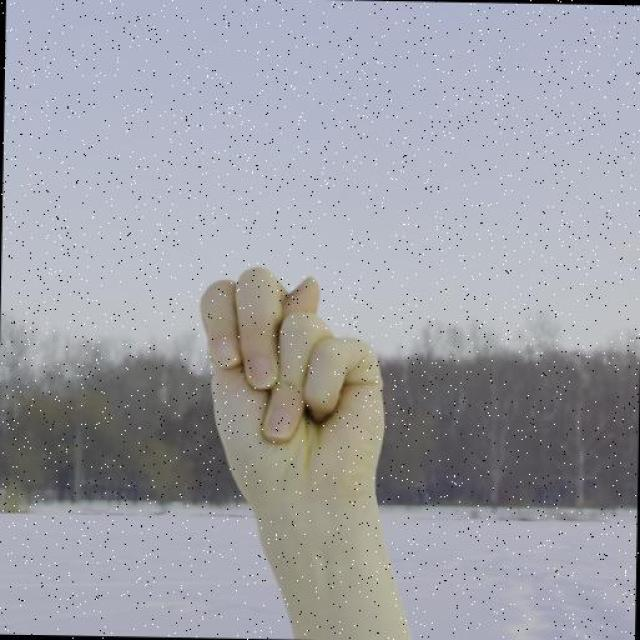N: (192, 264, 392, 518)
